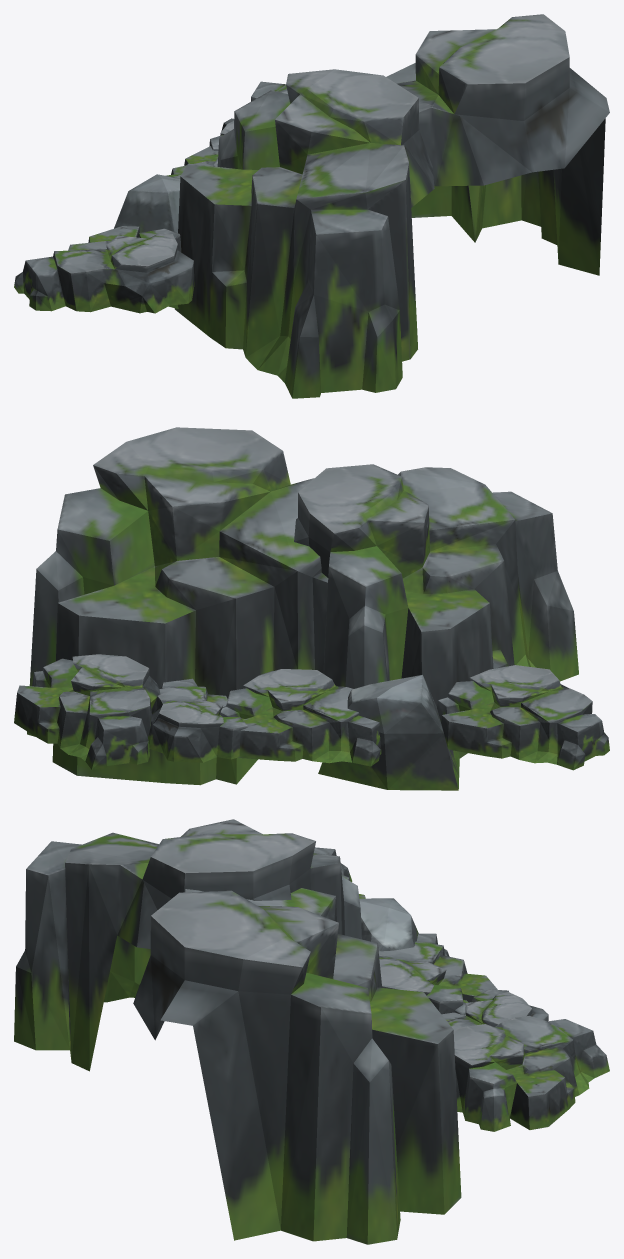
File: Area05_6_y.FBX
The picture shows the model from 3 angles, top to bottom: view 1: azimuth 30°, elevation 25°; view 2: azimuth 150°, elevation 25°; view 3: azimuth 270°, elevation 25°; orthographic projection. The views are drawn at different scales.
Visible parts, largest first — view 1: Area05_6_y; view 2: Area05_6_y; view 3: Area05_6_y.
Boxes of the visible parts, x1,y1,x2,y2 form: Area05_6_y: (14, 14, 609, 398); Area05_6_y: (14, 427, 609, 790); Area05_6_y: (14, 819, 609, 1244).
Bounding box in the file's own units: 3595 × 1564 × 3178.
1 material, 1 textured.
